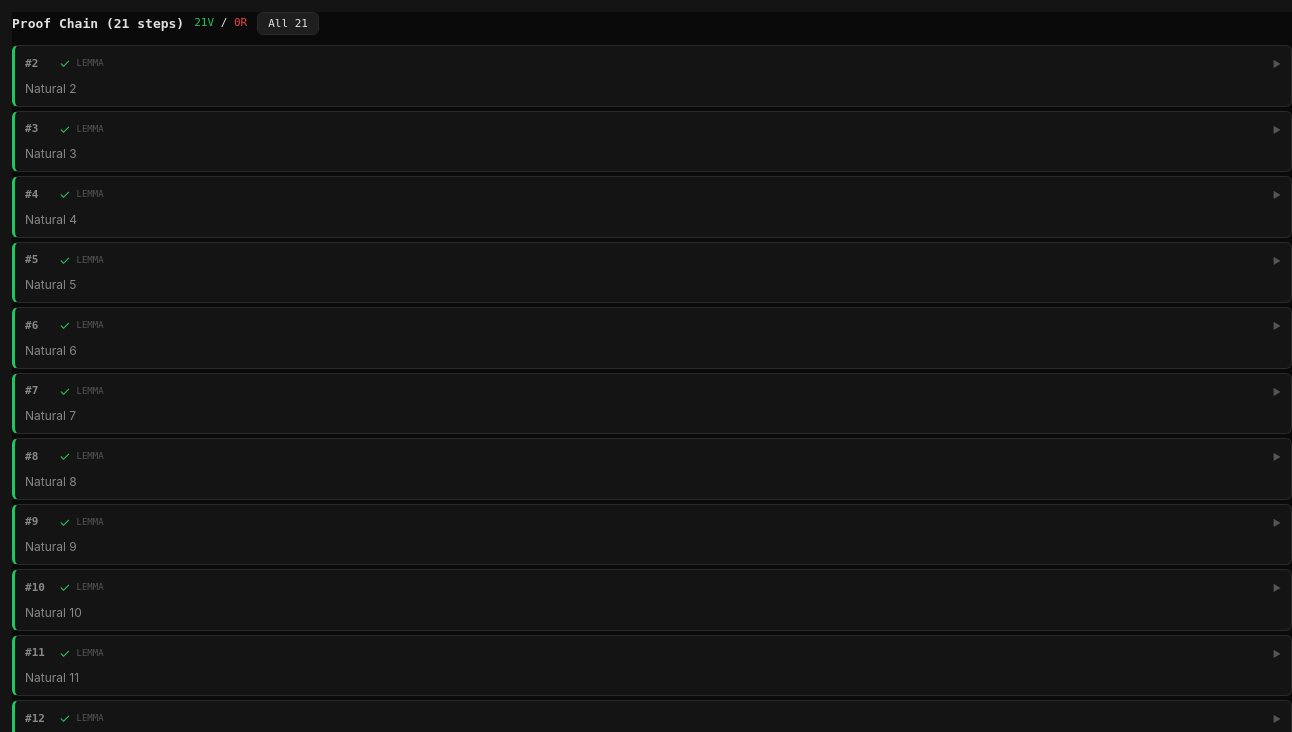
Test case: ProofChain › shows the last 20 steps by default and can expand to the full chain
The width and height of the screenshot is (1292, 732).
Expected: the heading "Proof Chain (21 steps)" is shown, [12,14,184,33]
Click the button "All 21" at (288, 24), box [257,12,319,35]
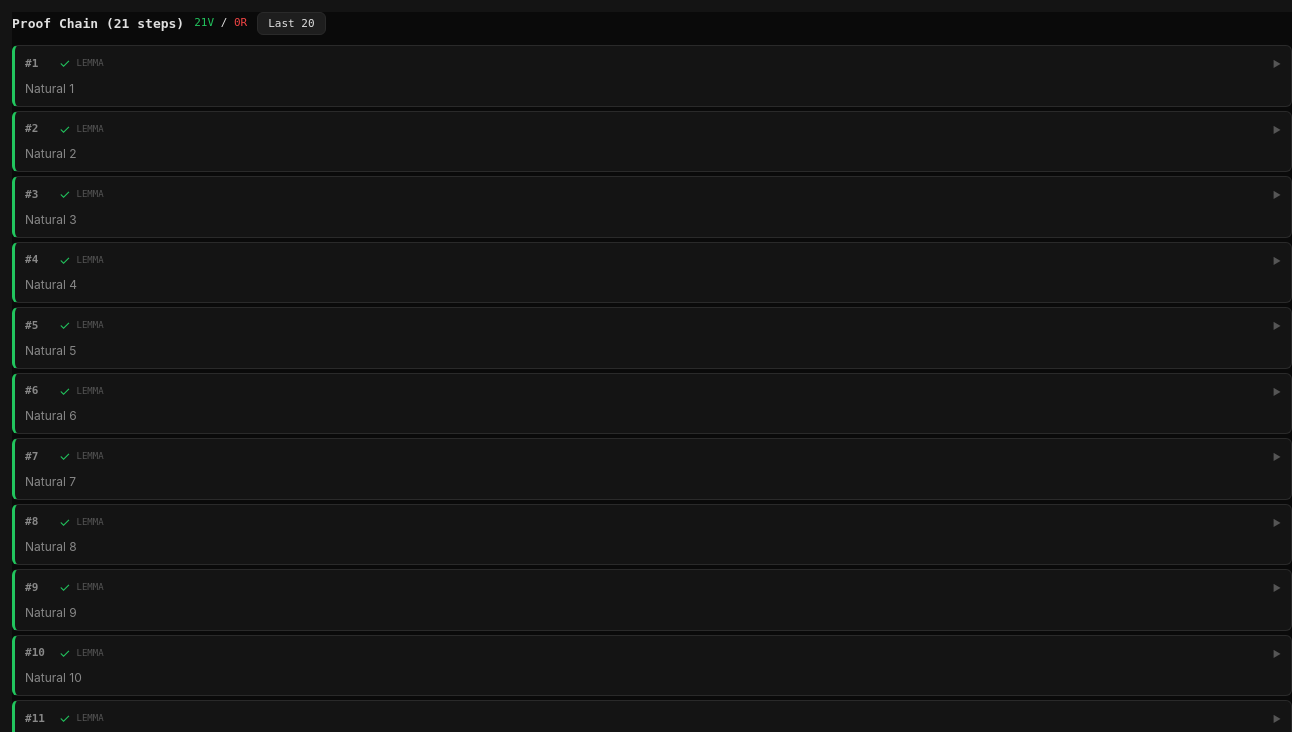
Expected: the text "#1" is shown, [25,56,38,70]
Expected: the button "Last 20" is shown, [257,12,326,35]
